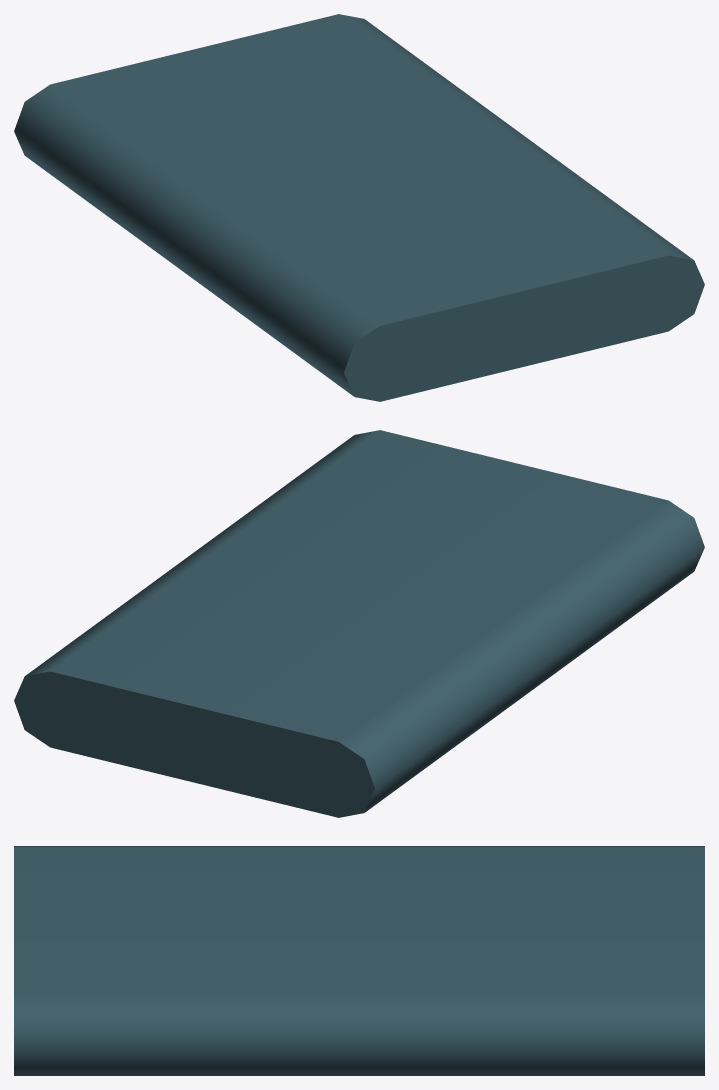
Rendered from Laptop_002_Monitor_001.fbx.
The picture shows the model from 3 angles, top to bottom: view 1: azimuth 30°, elevation 25°; view 2: azimuth 150°, elevation 25°; view 3: azimuth 270°, elevation 25°; orthographic projection. The views are drawn at different scales.
Parts seen in each view (by area): view 1: Laptop_002_Monitor_001; view 2: Laptop_002_Monitor_001; view 3: Laptop_002_Monitor_001.
Part boxes in pixels (x1=…): Laptop_002_Monitor_001: x1=14, y1=14, x2=704, y2=401; Laptop_002_Monitor_001: x1=14, y1=430, x2=704, y2=817; Laptop_002_Monitor_001: x1=14, y1=846, x2=704, y2=1075.
Size of the model in its own units: 6.57 by 10.39 by 1.32.
